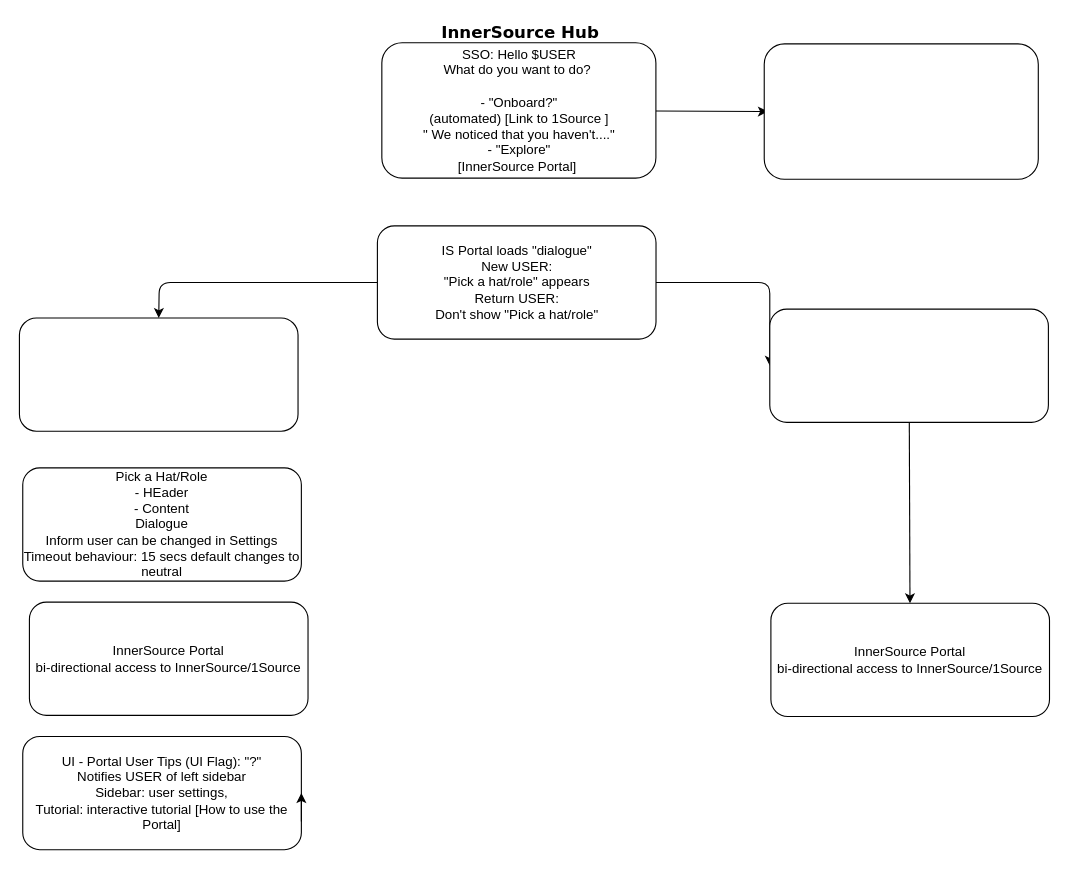
Some shapes in this 1069 by 869 pixel diagram are drawn without their labels. The box of each missing label's shape, as (x1, y1, x2, y2) in pixels:
NEW USER: Show board root: Show personalized dashboard root [ based on the role]: (18, 317, 298, 431)
Onboarding: (763, 43, 1038, 179)
RETURN USER: previous personalized dashboard root [ based on the role]: (769, 308, 1048, 422)
